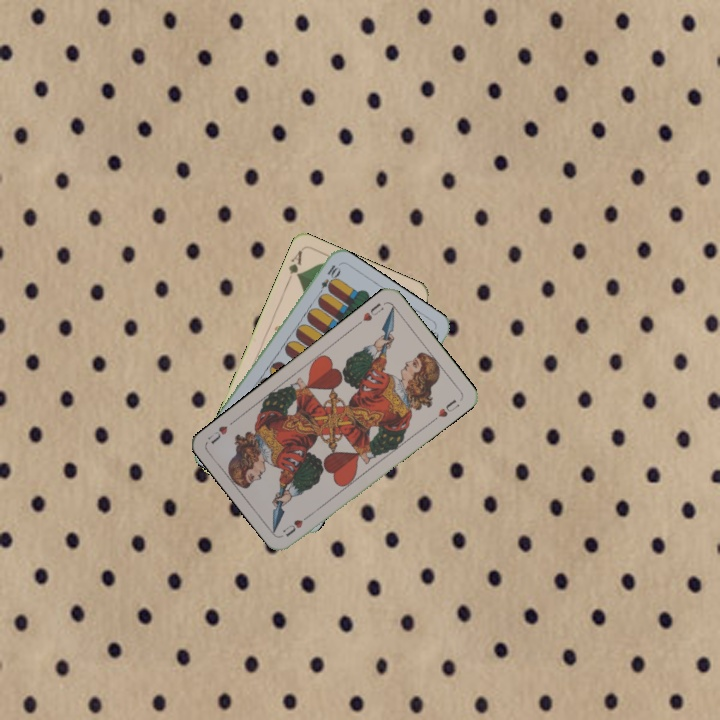E10: (314, 261, 342, 299)
GA: (283, 246, 305, 285)
HU: (279, 510, 314, 539), (353, 299, 386, 328)
